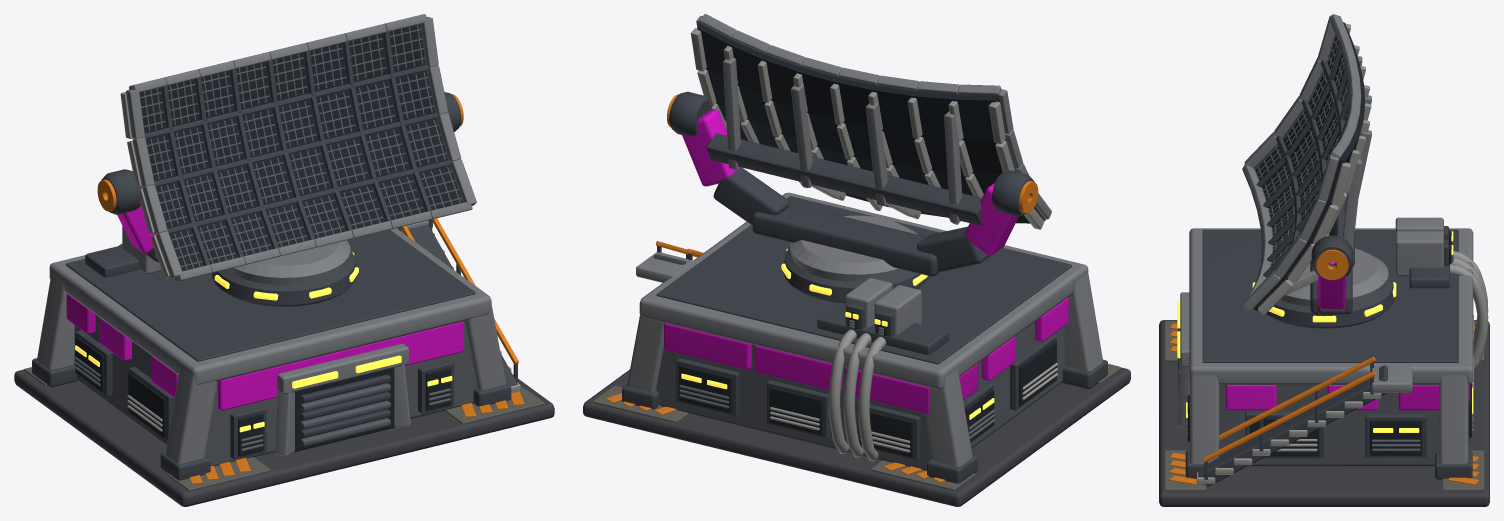
File: radar.glb
3 views of the same model, side by side, from view 1: azimuth 30°, elevation 25°; view 2: azimuth 150°, elevation 25°; view 3: azimuth 270°, elevation 25° (orthographic). The views are drawn at different scales.
Parts seen in each view (by area): view 1: Radar.001, Assembly; view 2: Radar.001, Assembly; view 3: Radar.001, Assembly.
Boxes of the visible parts, x1,y1,x2,y2 form: Radar.001: (14, 218, 554, 506); Assembly: (97, 14, 476, 284); Radar.001: (583, 192, 1130, 506); Assembly: (667, 14, 1051, 281); Radar.001: (1159, 217, 1489, 506); Assembly: (1242, 14, 1388, 314).
Bounding box in the file's own units: 3.94 × 3.52 × 3.12.
